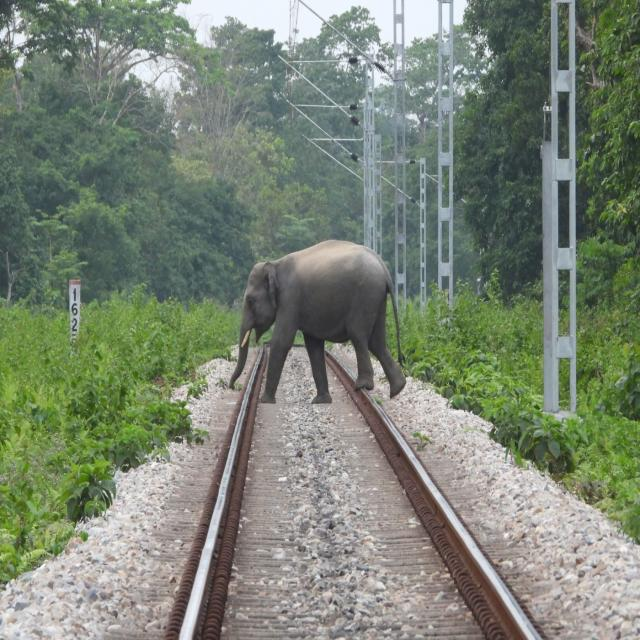Elephant: (226, 232, 408, 429)
